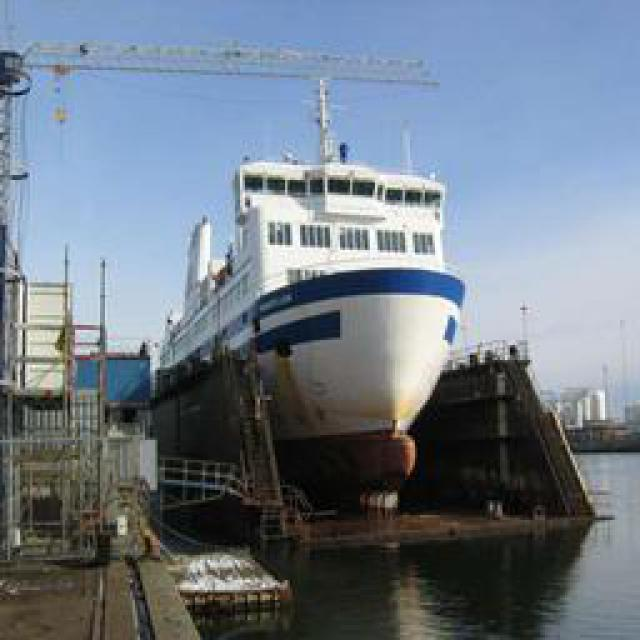Ship: (102, 119, 470, 529)
